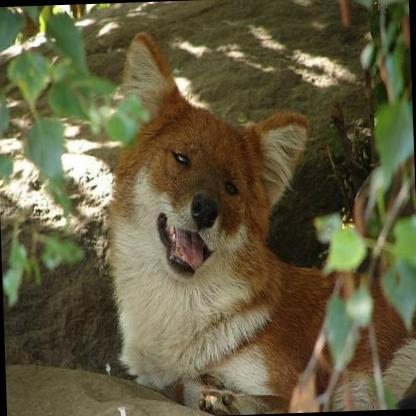dhole: (98, 17, 416, 416)
